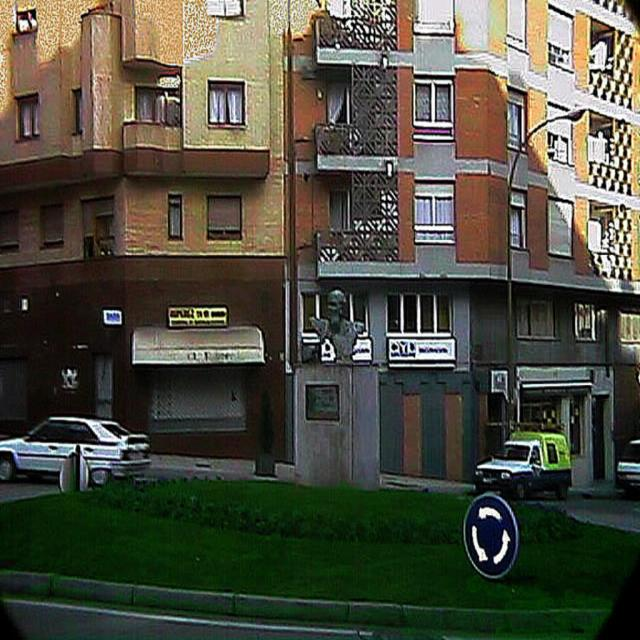car: (474, 427, 572, 504)
